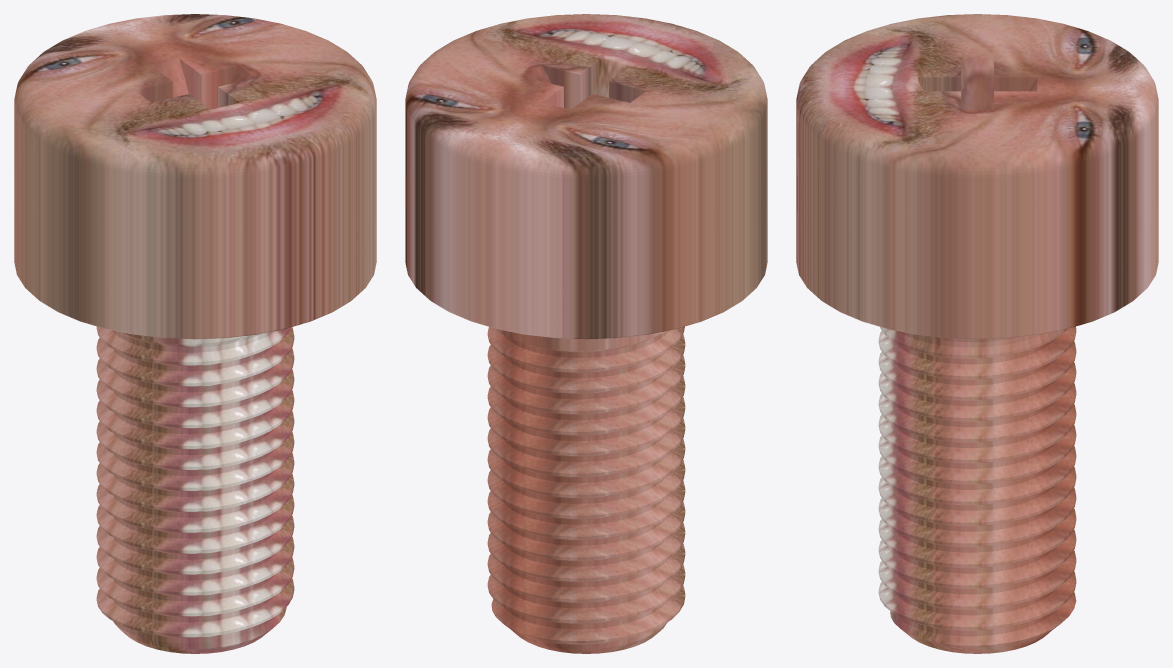
The model's file is kroeger-cap-phillips-bolt.glb.
3 views of the same model, side by side, from view 1: azimuth 30°, elevation 25°; view 2: azimuth 150°, elevation 25°; view 3: azimuth 270°, elevation 25° (orthographic).
Visible parts, largest first — view 1: Bolt.016; view 2: Bolt.016; view 3: Bolt.016.
Boxes of the visible parts, x1,y1,x2,y2 form: Bolt.016: [14, 14, 376, 653]; Bolt.016: [405, 14, 767, 653]; Bolt.016: [796, 14, 1158, 653].
Bounding box in the file's own units: 0.011 × 0.018 × 0.011.
Materials: 1 (1 with a texture image).
